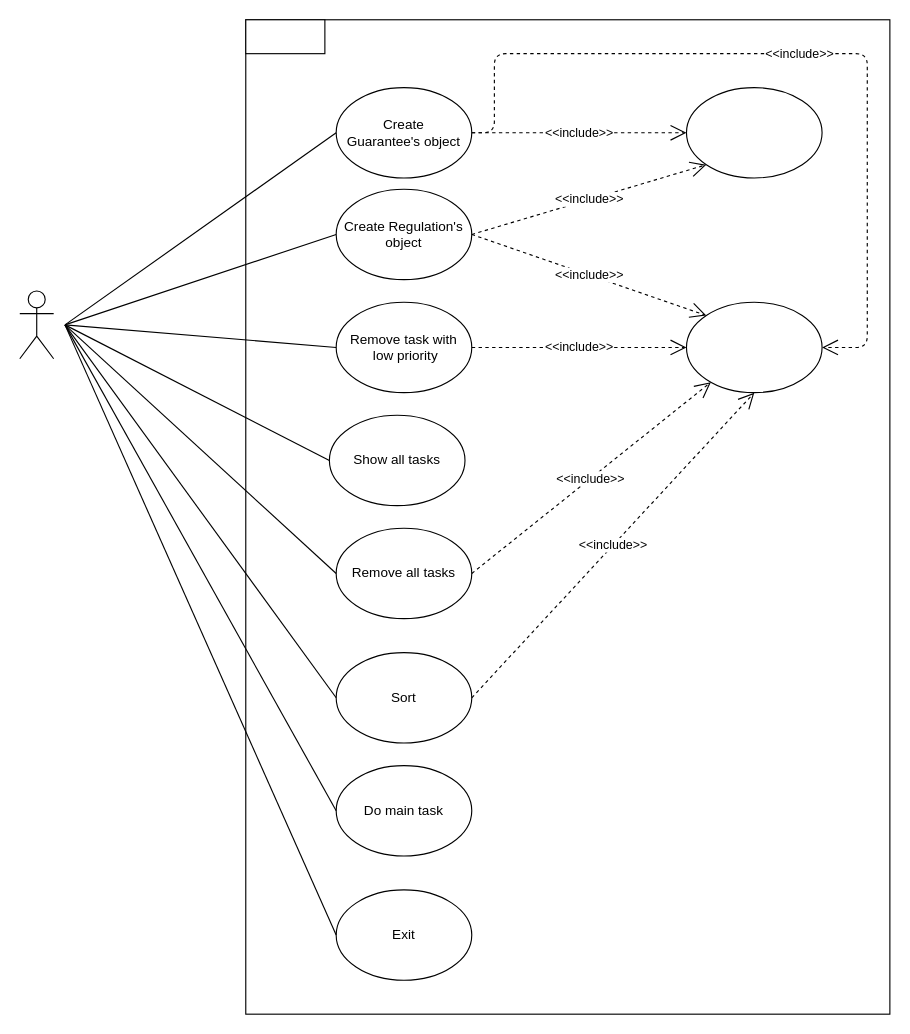
This 910x1034 diagram has some shape labels left out. The centre of each missing label's shape, as x and y in pixels:
"input data from keyboard" belongs at (x=753, y=132).
"print status of operation" belongs at (x=753, y=347).
"Task Queue" belongs at (x=285, y=36).
"User" belongs at (x=36, y=324).
